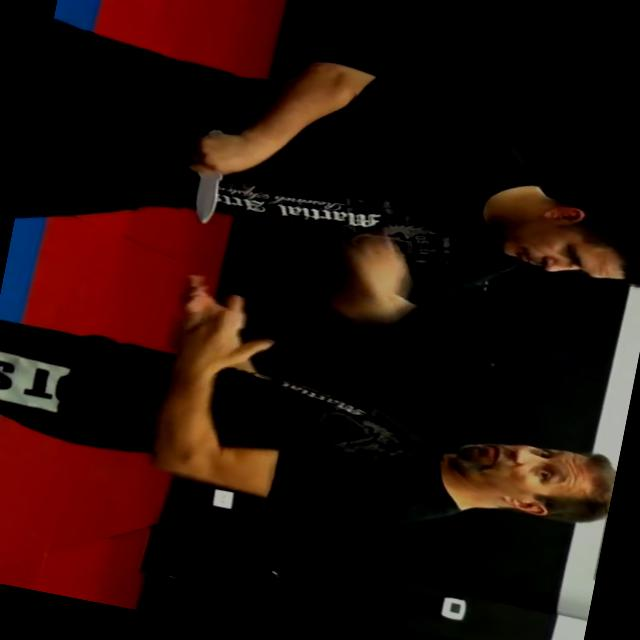knife: (172, 122, 242, 232)
